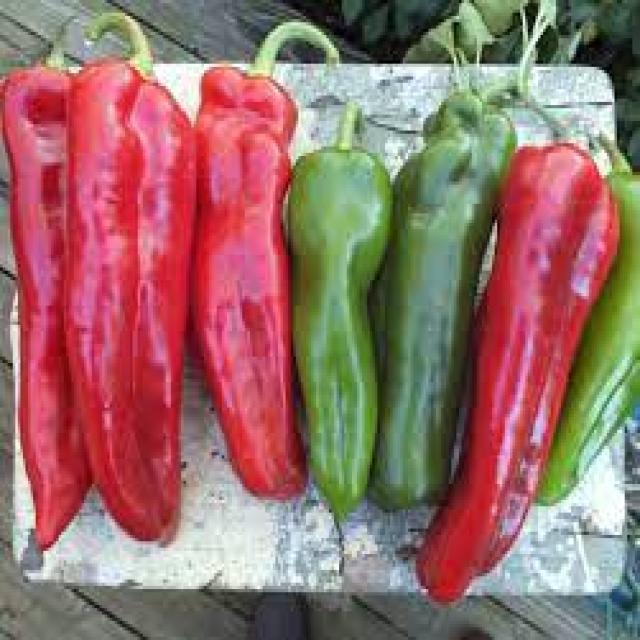Pepper: (416, 142, 623, 606), (370, 87, 517, 513), (67, 62, 196, 545), (190, 67, 308, 504), (282, 147, 394, 526), (0, 71, 87, 551), (537, 160, 640, 508)
